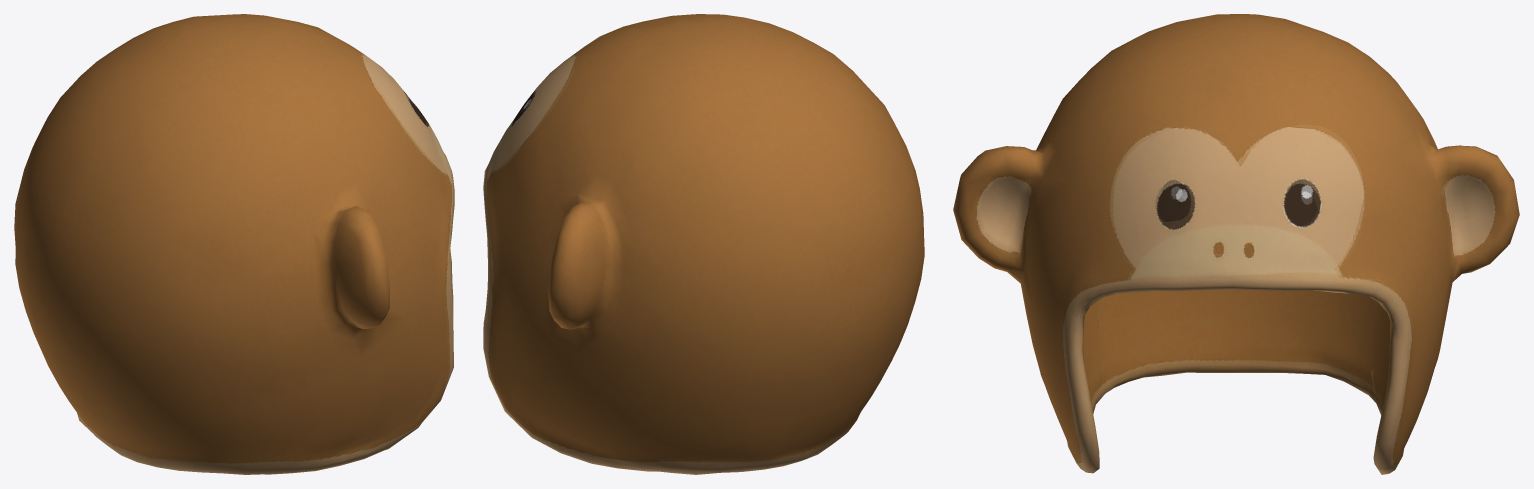
The model's file is tripo_convert_ed162892-3250-4263-9780-6ece4df358b2.fbx.
3 views of the same model, side by side, from view 1: azimuth 30°, elevation 25°; view 2: azimuth 150°, elevation 25°; view 3: azimuth 270°, elevation 25° (orthographic). The views are drawn at different scales.
Visible parts, largest first — view 1: tripo_node_ed162892; view 2: tripo_node_ed162892; view 3: tripo_node_ed162892.
Boxes of the visible parts, x1=… form: tripo_node_ed162892: x1=14, y1=14, x2=454, y2=474; tripo_node_ed162892: x1=483, y1=14, x2=924, y2=474; tripo_node_ed162892: x1=953, y1=14, x2=1519, y2=474.
Size of the model in its own units: 0.7992 by 0.7667 by 0.9912.
Materials: 1 (1 with a texture image).
